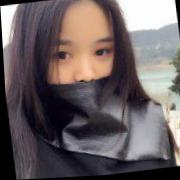WRONG: (41, 25, 127, 122)
